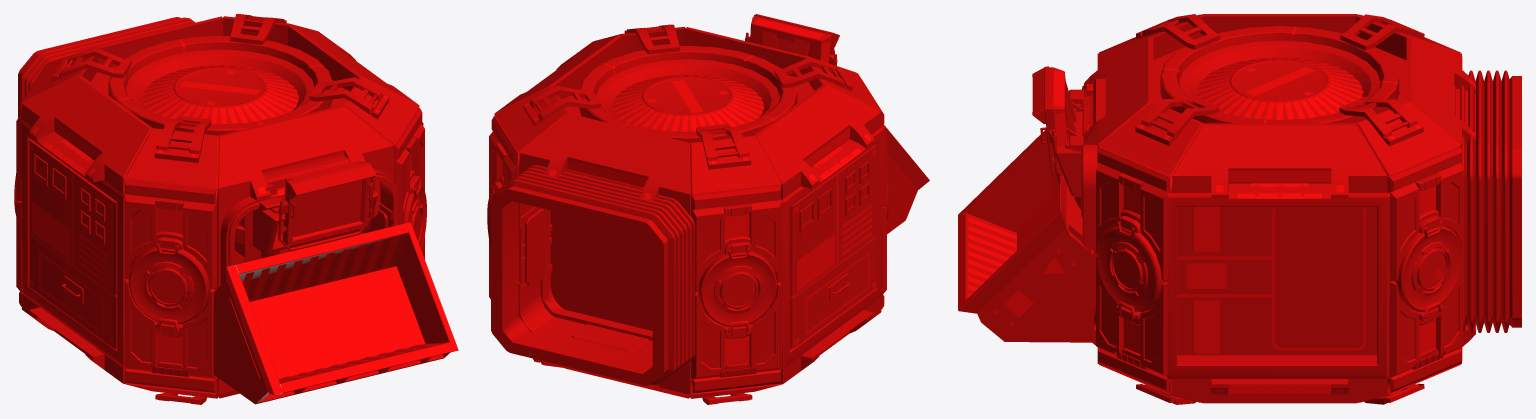
File: MiniHopper0.3.ex.fbx
3 views of the same model, side by side, from view 1: azimuth 30°, elevation 25°; view 2: azimuth 150°, elevation 25°; view 3: azimuth 270°, elevation 25° (orthographic). The views are drawn at different scales.
Visible parts, largest first — view 1: SM_ConveyorMerger_01; view 2: SM_ConveyorMerger_01; view 3: SM_ConveyorMerger_01.
Part boxes in pixels (box(x1,y1,x2,y2)): SM_ConveyorMerger_01: box(14, 14, 458, 404); SM_ConveyorMerger_01: box(487, 14, 929, 404); SM_ConveyorMerger_01: box(958, 14, 1521, 404).
Bounding box in the file's own units: 384 × 315 × 552.
